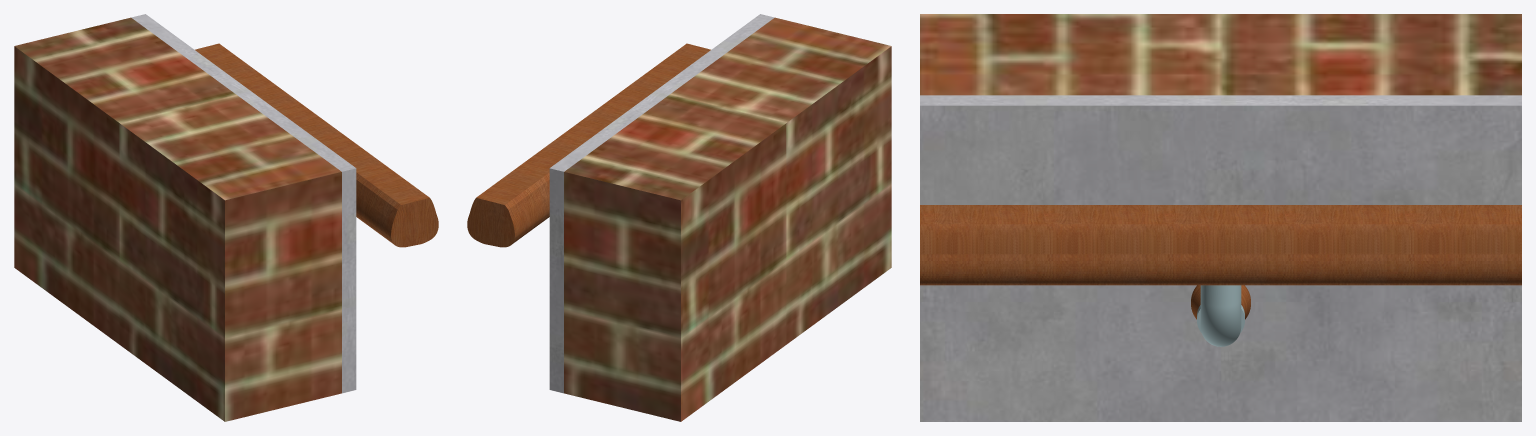
File: handrail-brick-wall-wood-pad-bracket.glb
The picture shows the model from 3 angles, left to right: view 1: azimuth 30°, elevation 25°; view 2: azimuth 150°, elevation 25°; view 3: azimuth 270°, elevation 25°; orthographic projection. The views are drawn at different scales.
Visible parts, largest first — view 1: 砖墙, 木扶手, 墙面抹面层; view 2: 砖墙, 木扶手, 墙面抹面层; view 3: 墙面抹面层, 砖墙, 木扶手, 镀铬连续弯管.
Part boxes in pixels (box(x1,y1,x2,y2)): 砖墙: box(14, 17, 341, 421); 木扶手: box(195, 43, 438, 247); 墙面抹面层: box(131, 14, 356, 393); 砖墙: box(564, 17, 891, 421); 木扶手: box(467, 43, 710, 247); 墙面抹面层: box(549, 14, 774, 393); 墙面抹面层: box(920, 95, 1521, 421); 砖墙: box(920, 14, 1521, 95); 木扶手: box(920, 205, 1521, 285); 镀铬连续弯管: box(1197, 285, 1244, 346).
Bounding box in the file's own units: 0.2927 × 0.29 × 0.5.
Materials: 7 (5 with a texture image).
